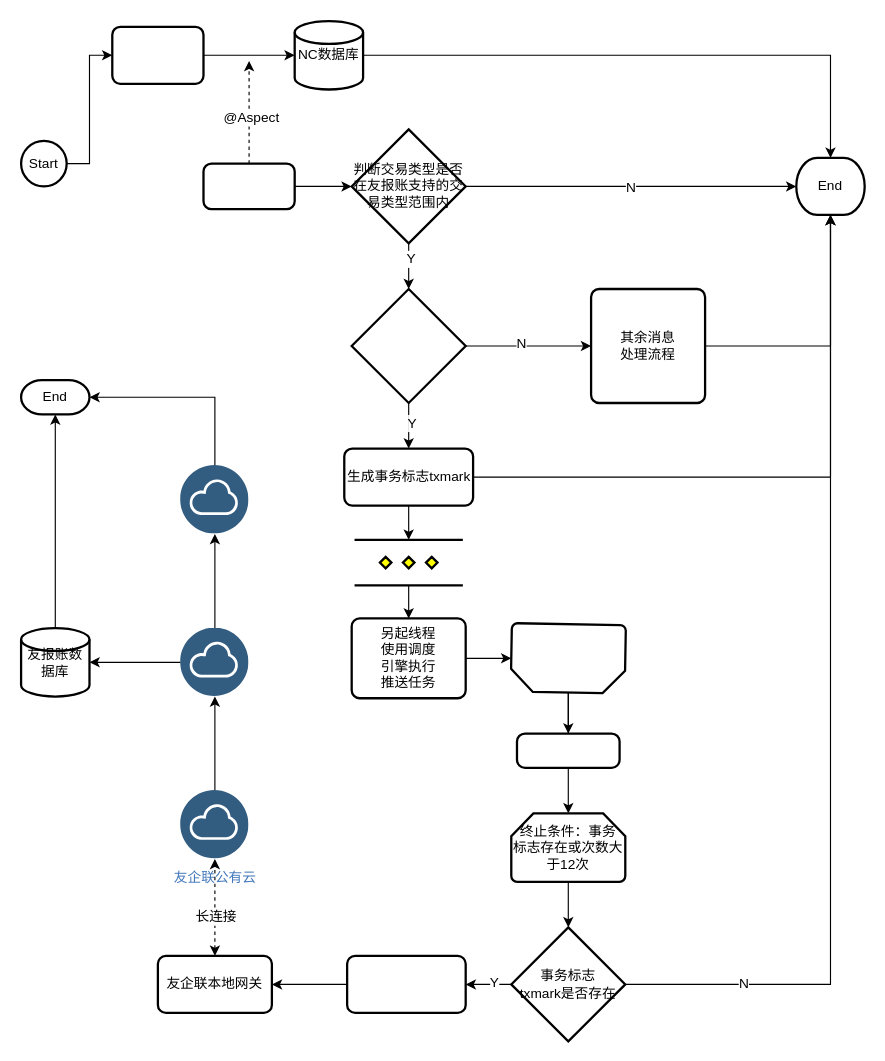
This 885x1061 diagram has some shape labels left out. The box of each missing label's shape, as (x1, y1, x2, y2) in pixels:
AOP切面: (202, 162, 295, 210)
sleep-5秒: (515, 732, 620, 768)
友报账审批服务: (180, 628, 249, 696)
友空间待办 中心服务: (180, 465, 249, 534)
审批流程流转 待办消息入库: (111, 25, 204, 84)
消息类型 是否待办消息: (350, 287, 466, 404)
组装推送参数: (345, 954, 466, 1013)
